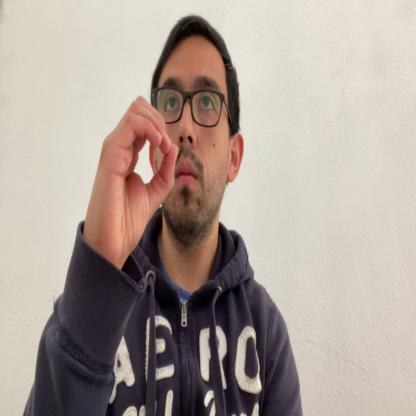O: (85, 95, 178, 273)
